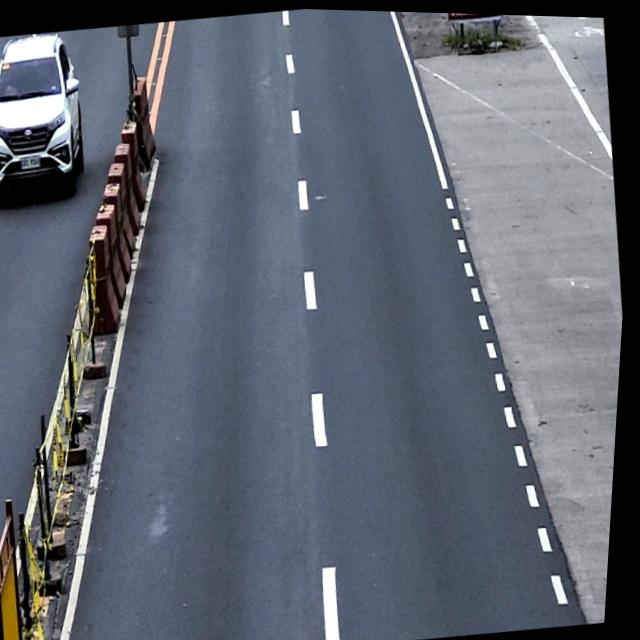Car: (0, 27, 98, 207)
License-Plate: (20, 154, 44, 170)
